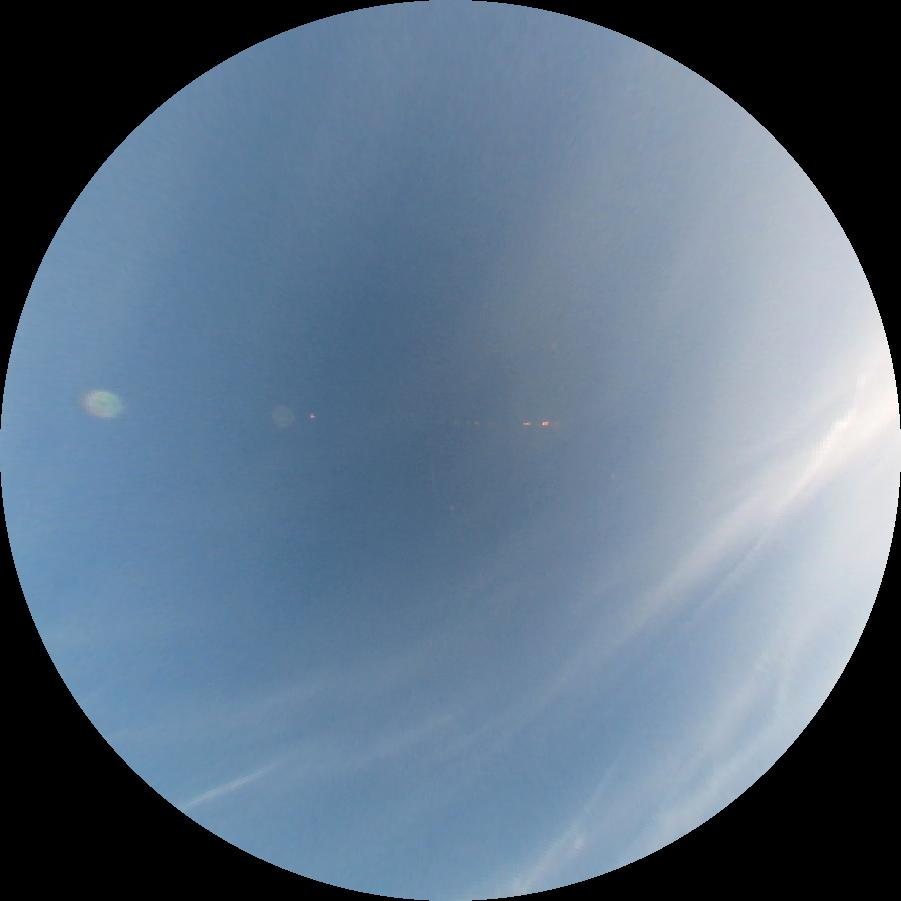contrail veryold: (681, 395, 867, 627), (519, 741, 628, 895)
